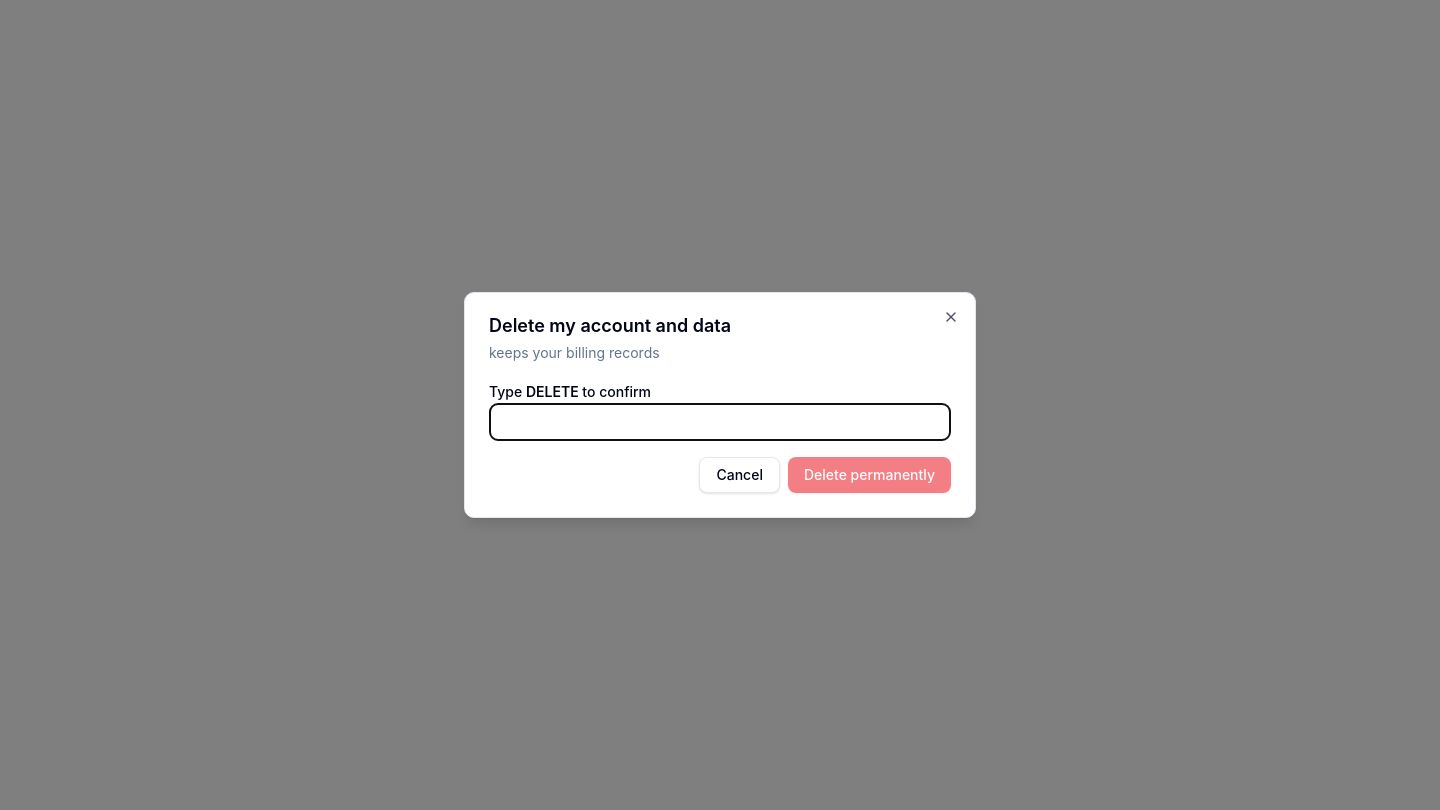
ErasureConfirmDialog (#482) › shows an error when the request throws
Type "DELETE" into the field labelled "Type DELETE to confirm". click: (720, 422)
box: [489,403,951,441]
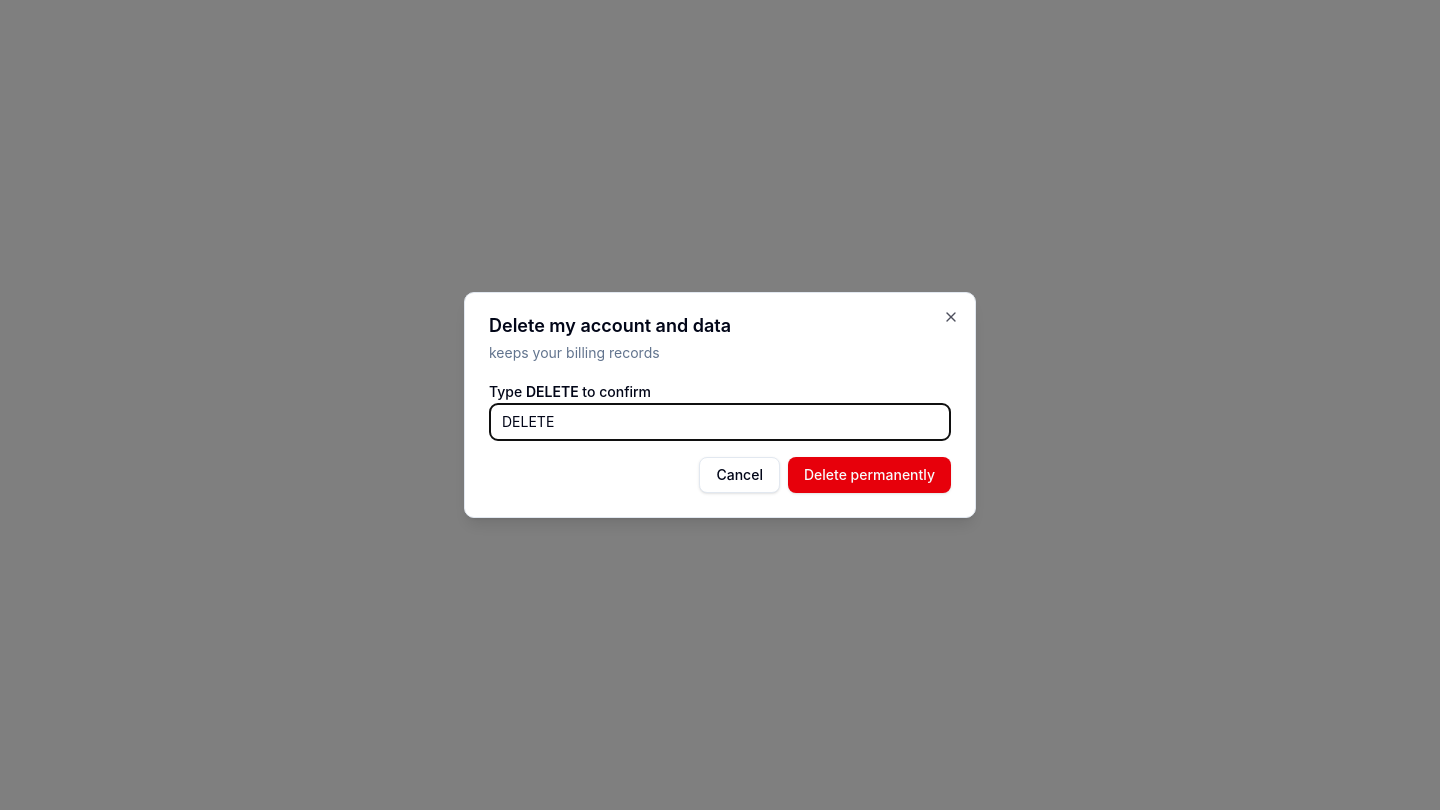
Click the button with test id "confirm-erasure". click: (870, 475)
box: [788,457,951,493]
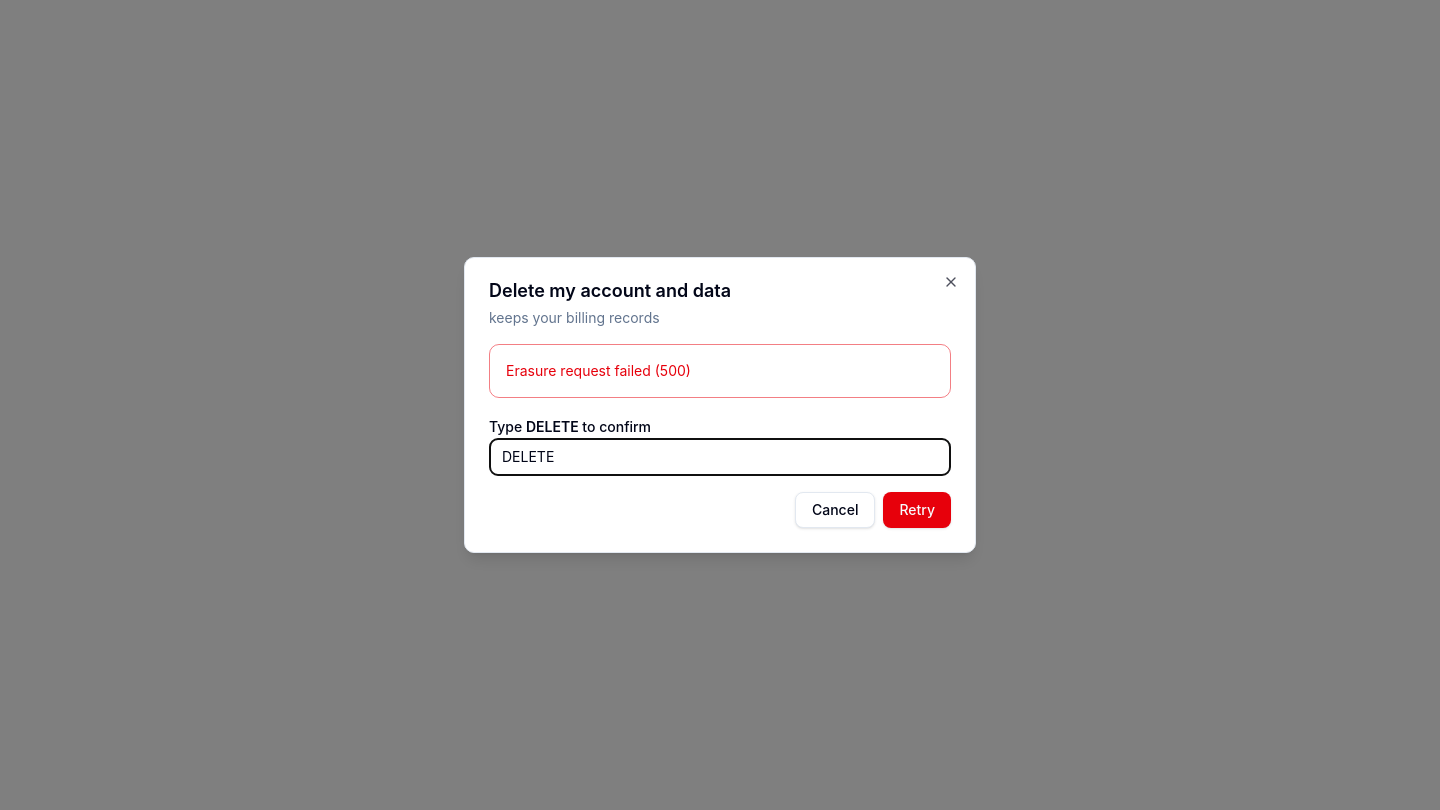
Now the message shows "failed", box [506,362,691,379]
